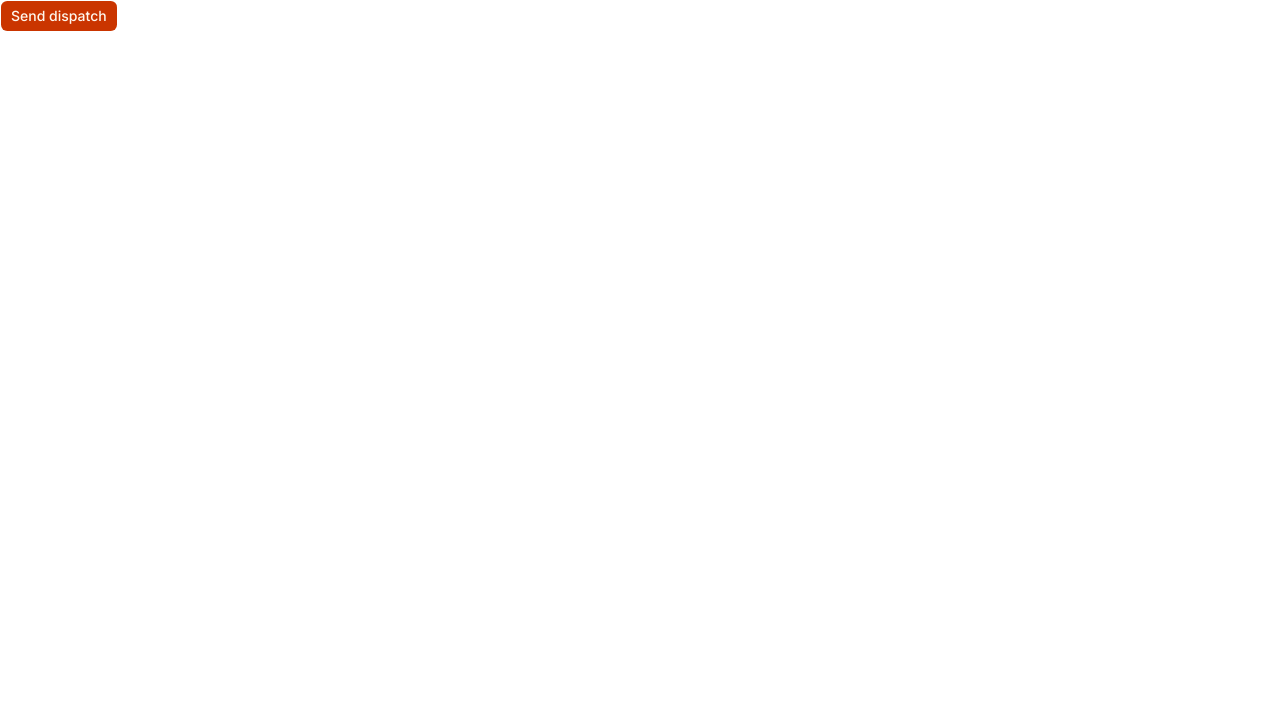
Test: dispatch post control › reuses the retry key when a post attempt returns an error
The width and height of the screenshot is (1280, 720).
Later steps or results of the test are not shown.
Click the button "Send dispatch": [59, 16] box [0,0,118,32]
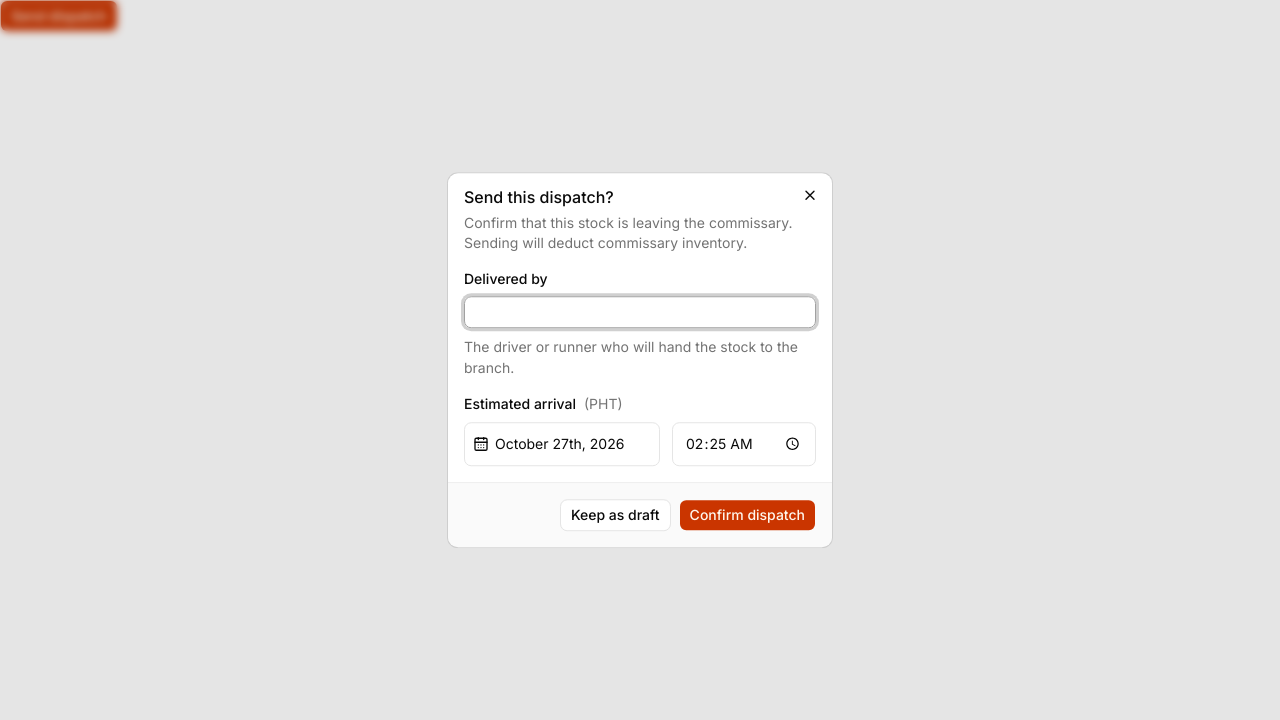
In the field labelled "Delivered by": [640, 312] box [464,296,816,328], type "Juan"
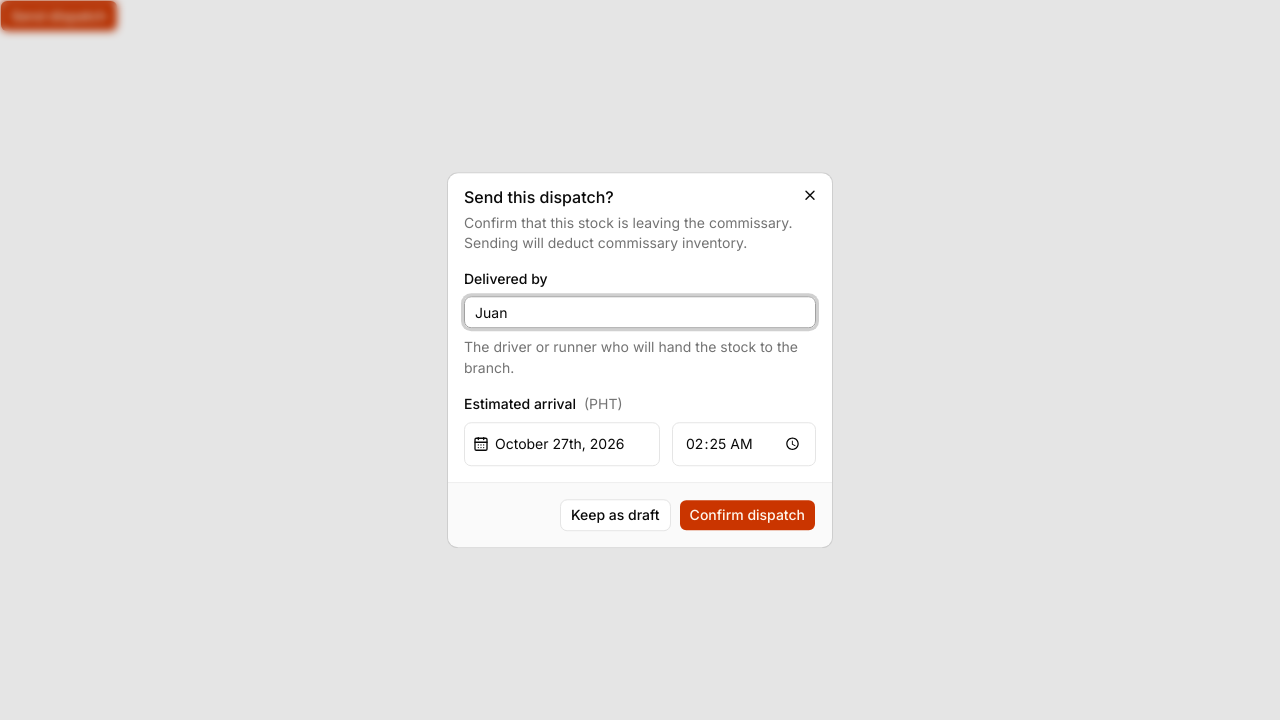
Click the button "Confirm dispatch": [747, 515] box [679,499,816,531]
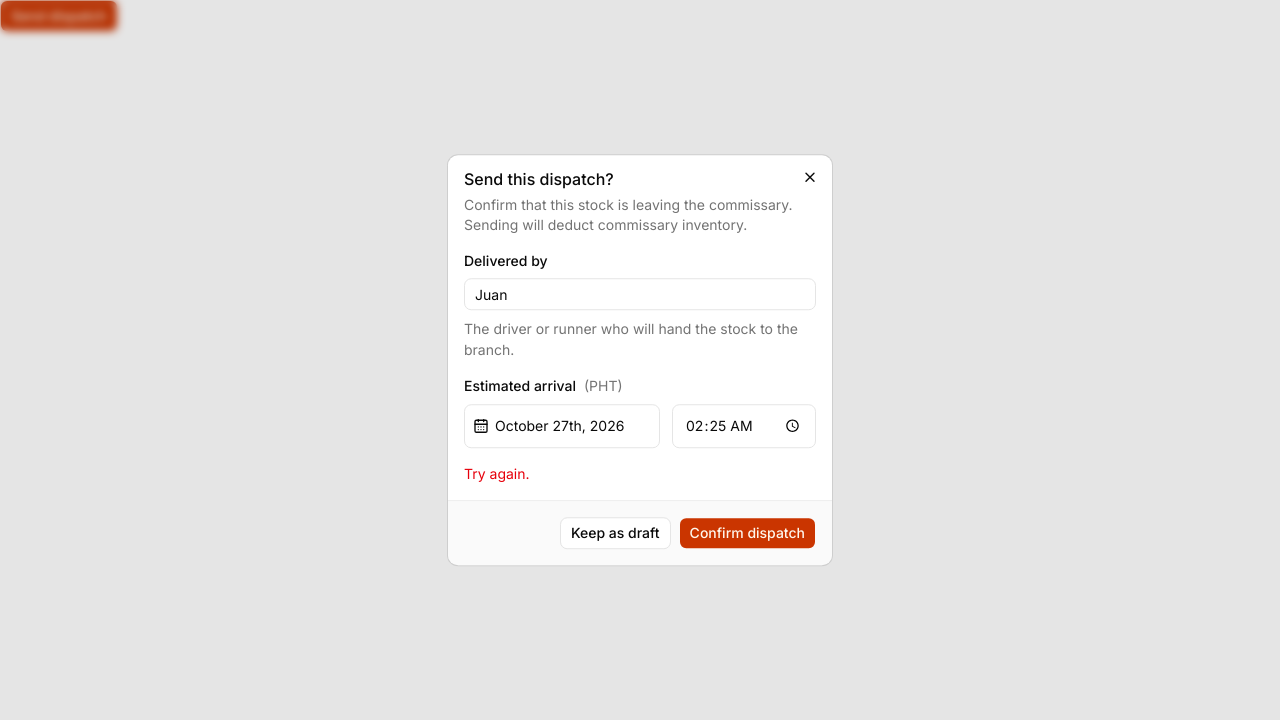
Expected: the message "Try again." is shown, [464,465,530,482]
